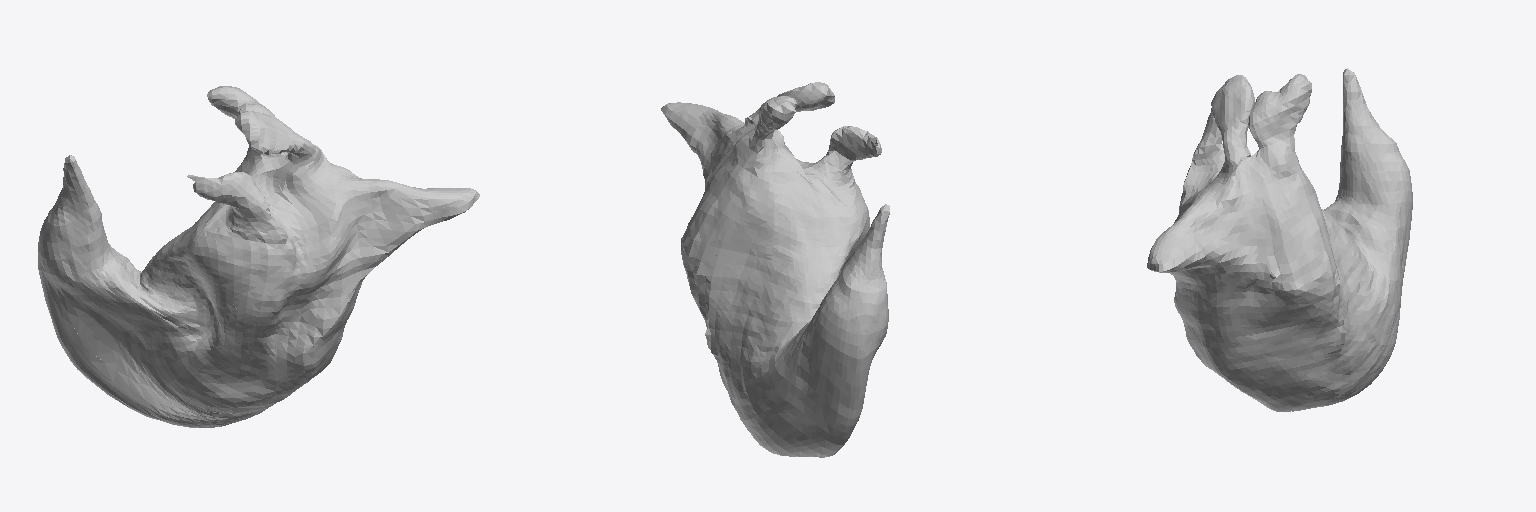
File: fg-00020-geo-color.obj
3 renders of one model, left to right at view 1: azimuth 30°, elevation 25°; view 2: azimuth 150°, elevation 25°; view 3: azimuth 270°, elevation 25°, orthographic.
Bounding box in the file's own units: 0.2506 × 0.2438 × 0.1754.